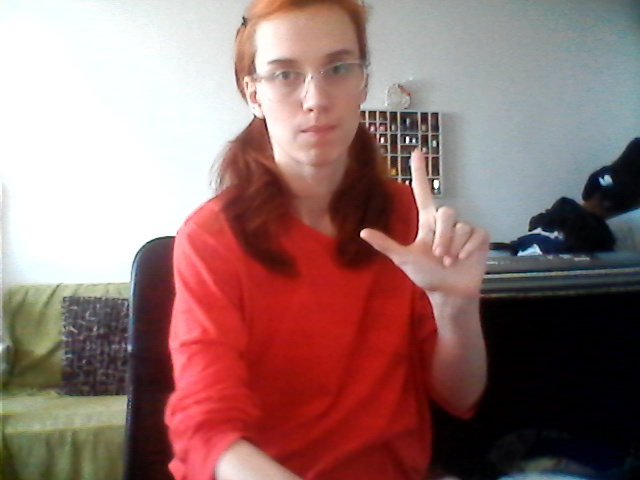l: (357, 145, 500, 303)
